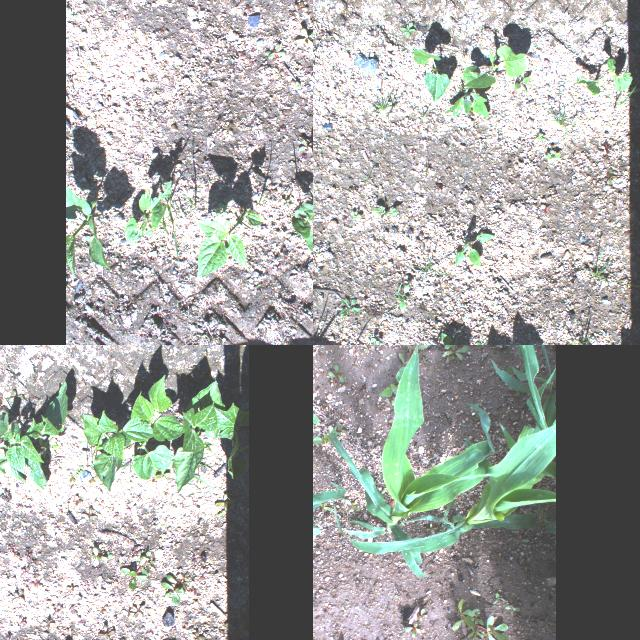crop: (334, 345, 554, 553), (326, 345, 494, 575), (0, 376, 68, 486), (124, 372, 186, 482), (191, 376, 245, 476), (193, 208, 264, 280), (122, 180, 178, 262), (66, 184, 110, 278), (80, 407, 124, 495), (313, 436, 345, 552), (462, 42, 530, 88), (172, 404, 205, 491), (575, 58, 633, 94), (412, 48, 448, 102), (291, 180, 313, 261)
weed: (449, 597, 513, 640), (156, 571, 194, 607), (452, 232, 492, 266), (446, 90, 486, 118), (118, 556, 148, 590), (586, 256, 622, 282), (403, 601, 427, 640), (490, 590, 520, 616), (412, 251, 440, 273), (338, 291, 362, 315), (91, 544, 115, 568), (324, 361, 348, 385), (438, 345, 473, 361), (547, 106, 569, 130), (394, 282, 411, 312), (313, 387, 324, 431), (368, 206, 398, 222), (411, 230, 434, 250), (374, 92, 398, 110), (214, 489, 228, 519), (264, 42, 286, 60), (294, 27, 313, 47), (94, 620, 113, 640), (342, 492, 360, 512), (393, 20, 415, 36), (80, 506, 100, 522), (569, 333, 594, 345), (512, 75, 530, 91), (605, 166, 619, 186), (540, 150, 562, 162), (313, 25, 329, 40), (602, 138, 612, 158), (364, 333, 380, 345), (358, 345, 377, 355), (336, 602, 350, 614), (532, 132, 548, 142), (488, 345, 513, 350), (517, 636, 548, 640), (437, 332, 446, 345), (350, 210, 360, 220), (371, 152, 383, 160), (422, 164, 430, 176), (359, 172, 368, 182)
